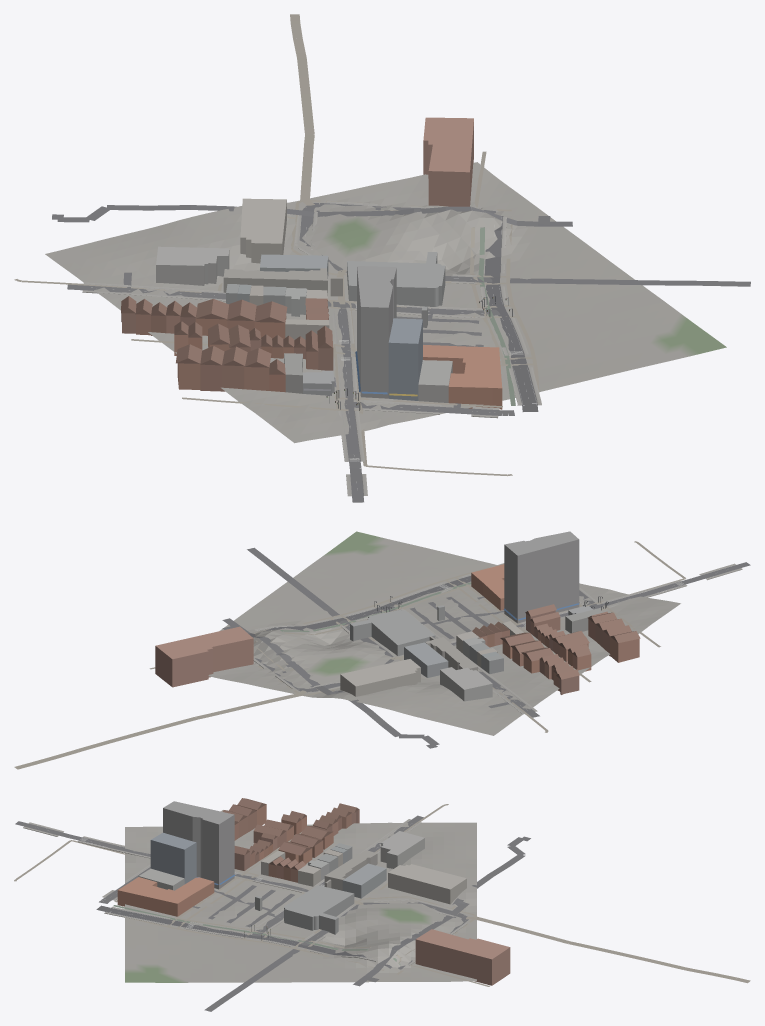
The model's file is tile_-3_-1.glb.
The picture shows the model from 3 angles, top to bottom: view 1: azimuth 30°, elevation 25°; view 2: azimuth 150°, elevation 25°; view 3: azimuth 270°, elevation 25°; orthographic projection. The views are drawn at different scales.
Visible parts, largest first — view 1: terrain, buildings, roads, paths, sidewalks; view 2: terrain, buildings, roads, paths, sidewalks; view 3: terrain, buildings, roads, paths, sidewalks.
Boxes of the visible parts, x1,y1,x2,y2 form: terrain: [45, 162, 726, 443]; buildings: [121, 117, 502, 409]; roads: [52, 203, 750, 502]; paths: [14, 14, 540, 476]; sidewalks: [82, 201, 541, 496]; terrain: [208, 531, 680, 735]; buildings: [155, 531, 640, 701]; roads: [222, 547, 750, 748]; paths: [14, 541, 685, 769]; sidewalks: [253, 563, 742, 714]; terrain: [125, 822, 476, 982]; buildings: [117, 798, 510, 985]; roads: [15, 815, 530, 1011]; paths: [14, 804, 750, 986]; sidewalks: [23, 819, 466, 965].
Bounding box in the file's own units: 336 × 58.09 × 536.
